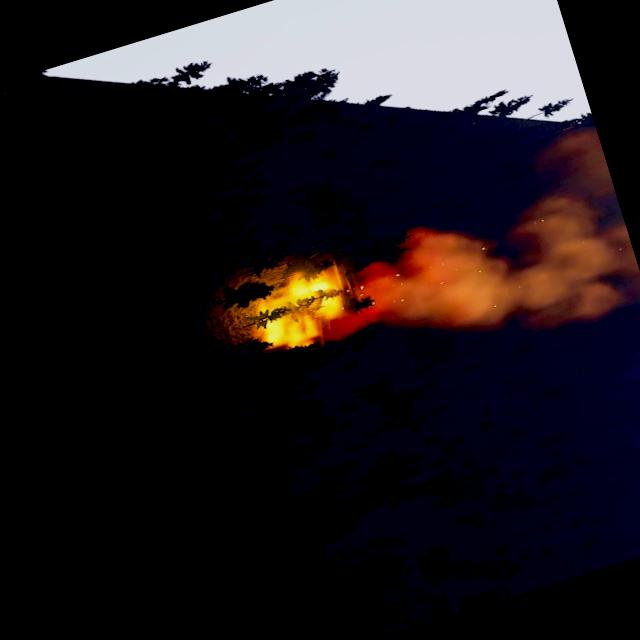fire: (244, 258, 358, 358)
smoke: (330, 128, 640, 385)
